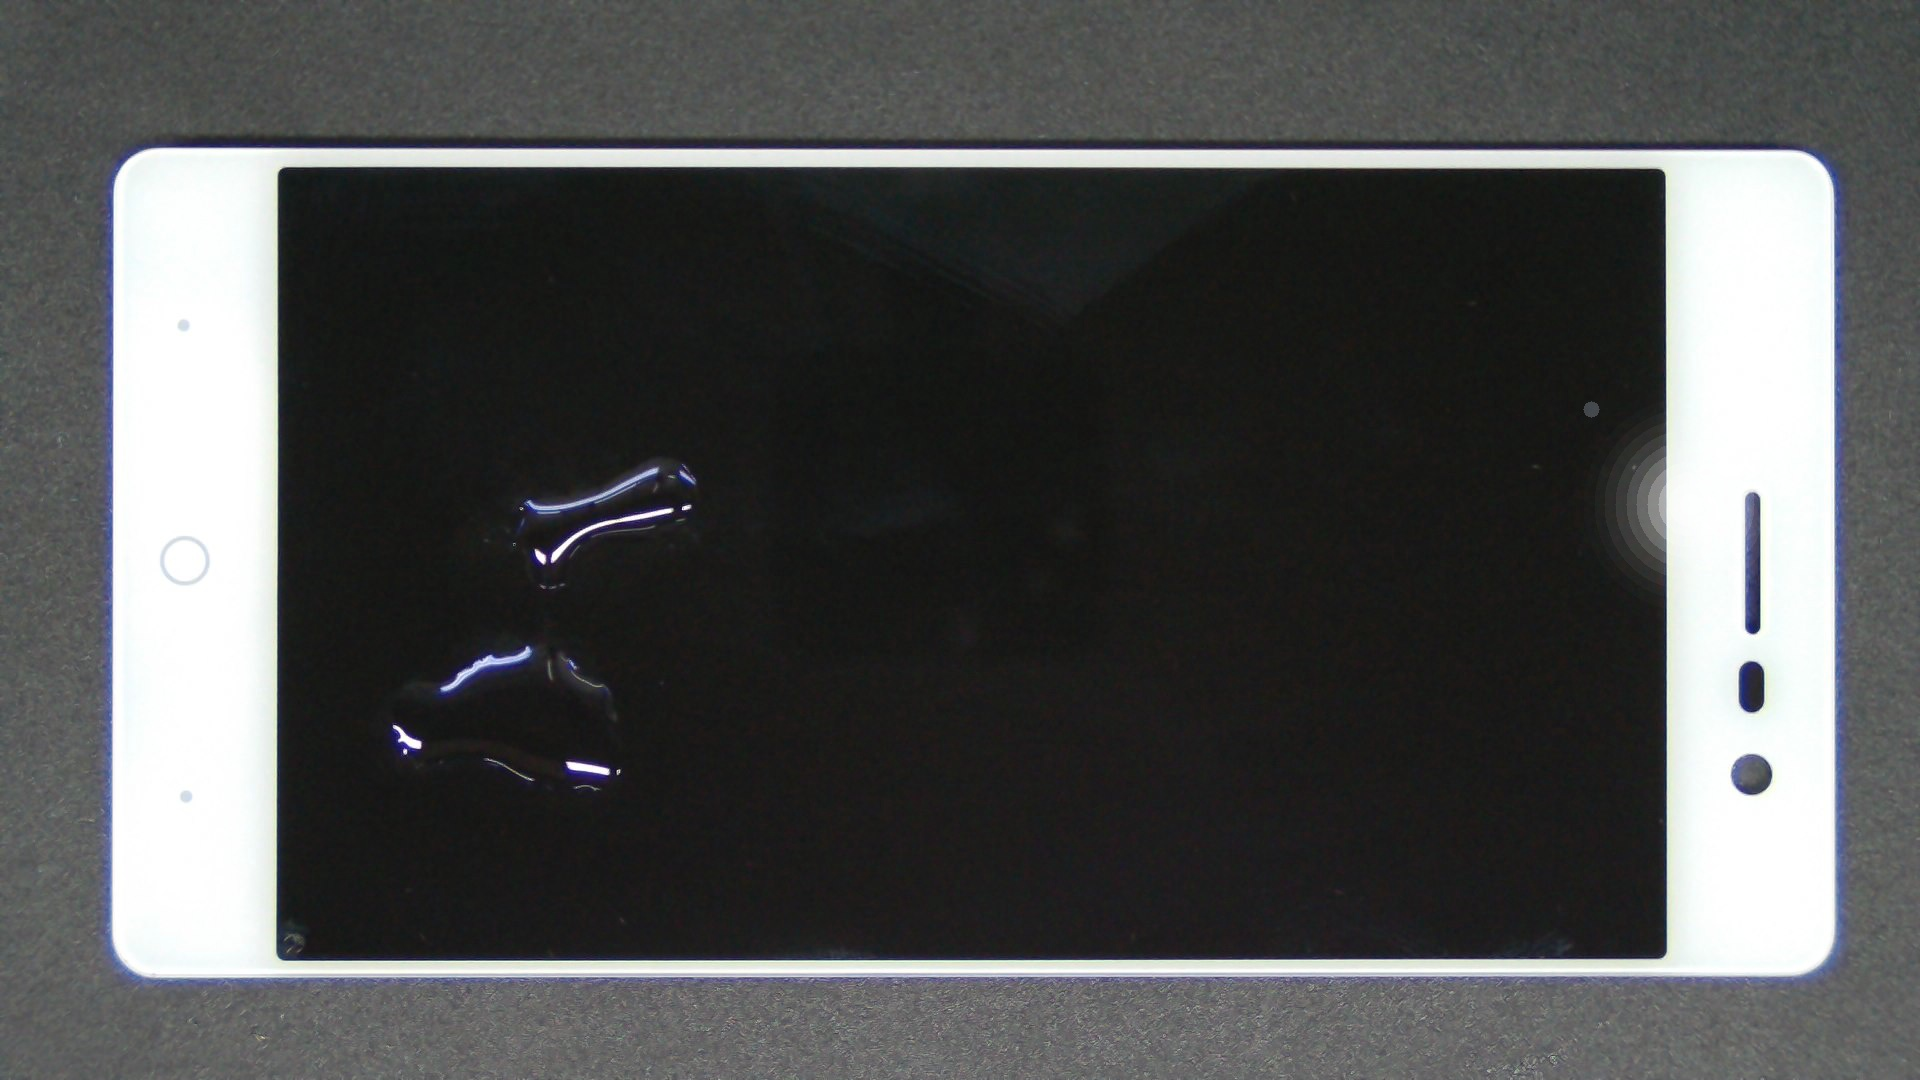oil: (277, 310, 828, 931), (335, 228, 1001, 687)
